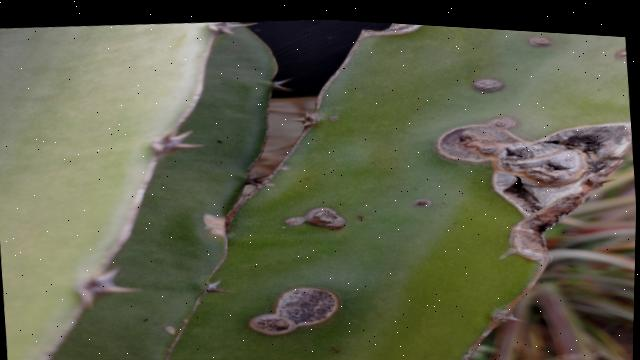stemcanker: (246, 284, 344, 338), (280, 204, 351, 233), (469, 75, 511, 97), (400, 193, 435, 213), (527, 33, 554, 50)
